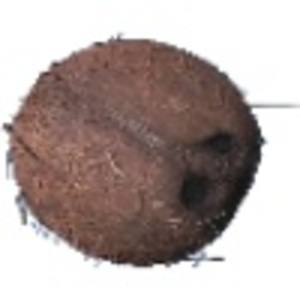coco: (3, 38, 268, 269)
